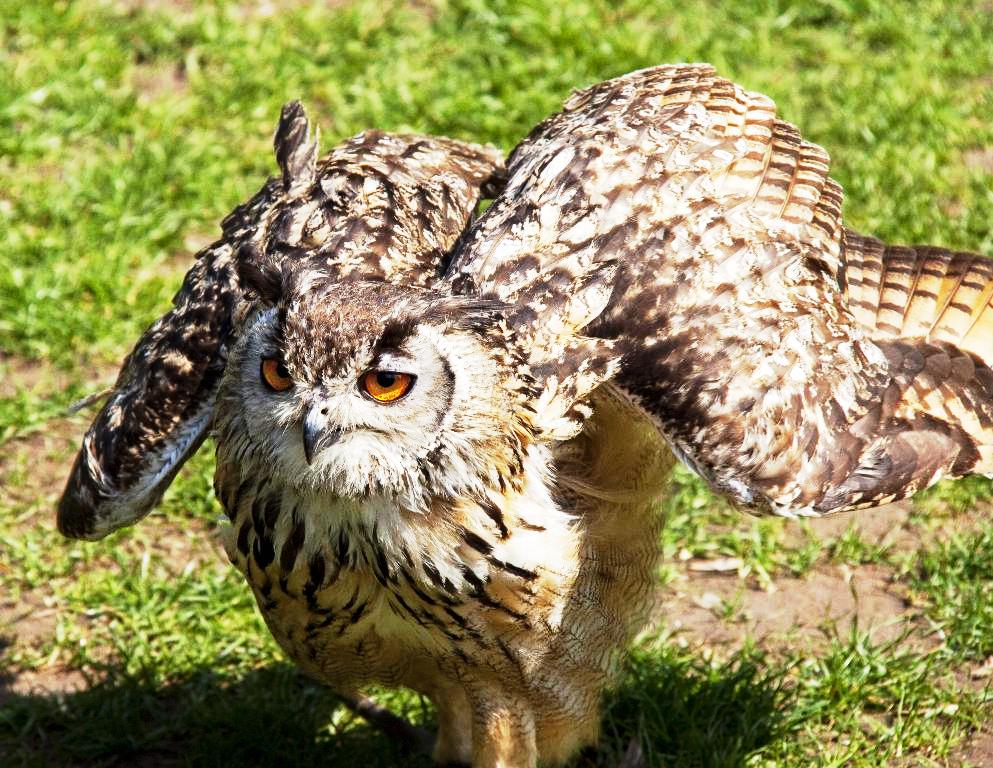Owl: (56, 57, 992, 768)
